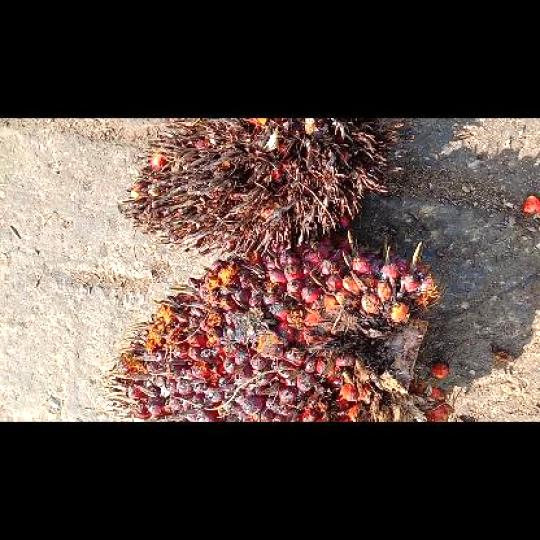masak: (102, 231, 441, 422)
terlalu masak: (121, 118, 400, 253)
